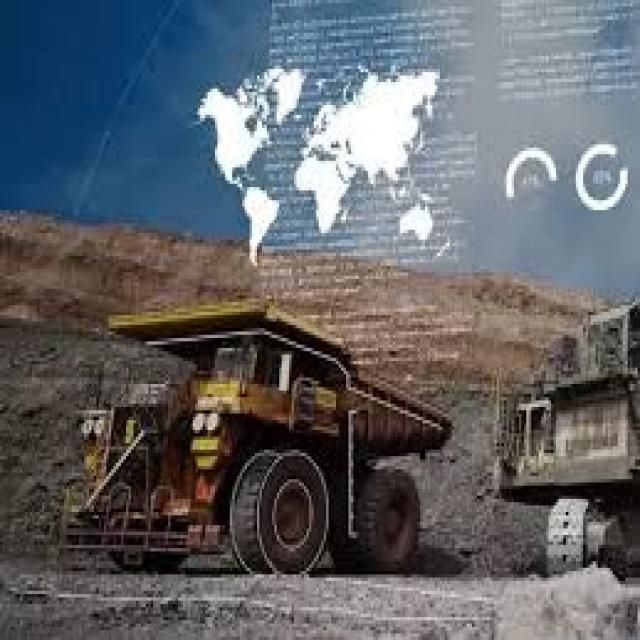dump_truck: (52, 298, 435, 578)
